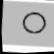no answer: (16, 5, 53, 37)
